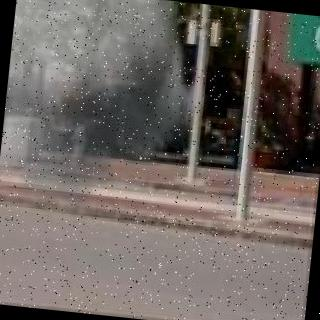smoke: (0, 0, 216, 201)
